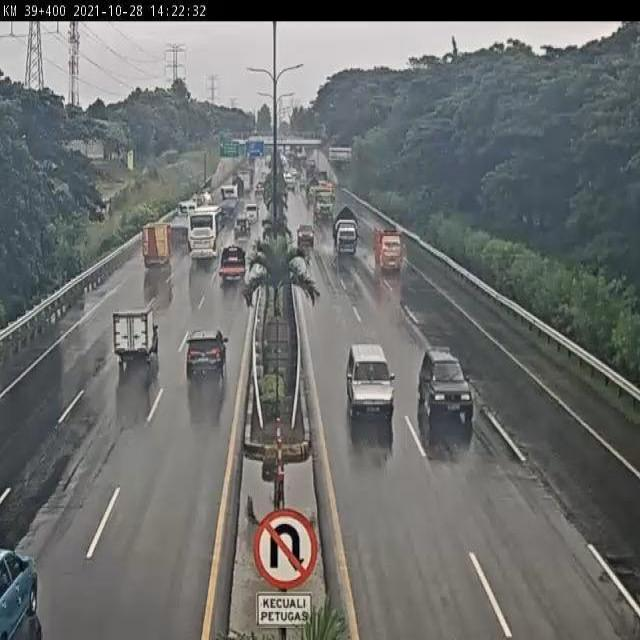bus-l-: (185, 208, 226, 260)
car: (416, 347, 473, 421), (346, 341, 393, 423), (112, 302, 161, 370), (187, 331, 226, 384), (296, 221, 317, 251), (232, 217, 254, 243), (242, 198, 260, 222)
truck-l-: (161, 202, 198, 238), (215, 180, 239, 220), (313, 183, 335, 220)
truck-s-: (140, 222, 174, 270), (373, 225, 405, 275), (331, 204, 359, 257), (218, 242, 246, 282)
